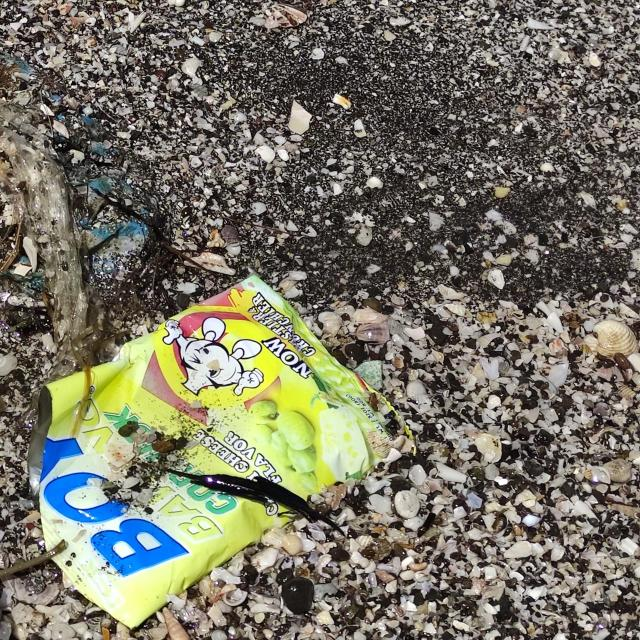plastic_waste: (27, 274, 411, 633)
